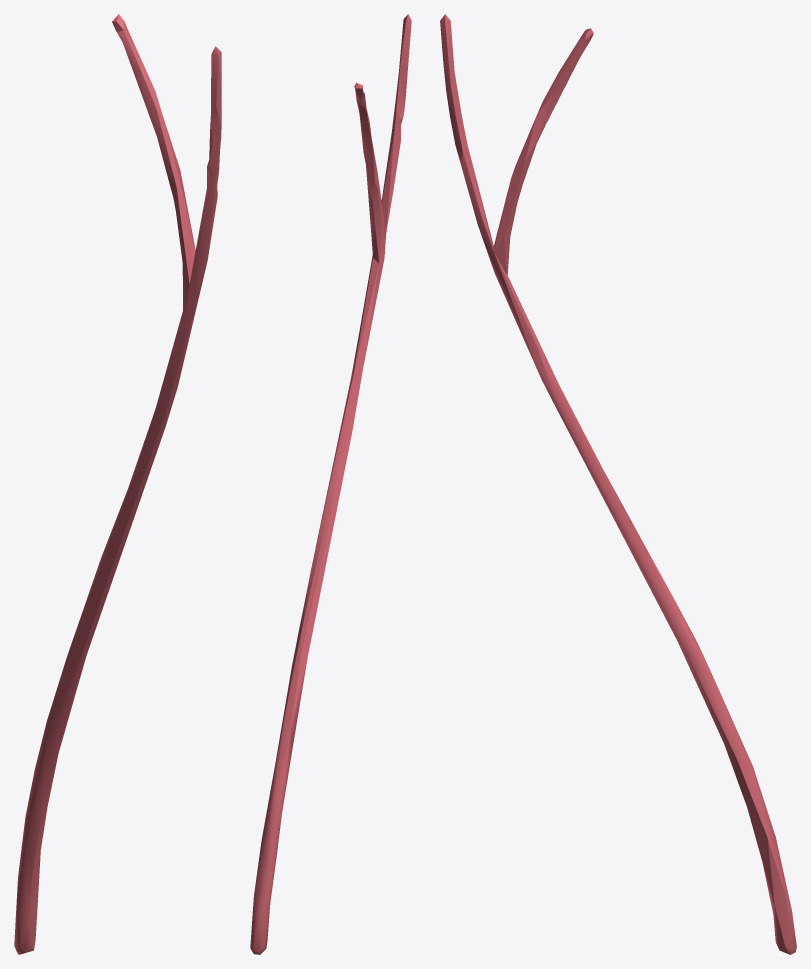
File: fma50175_fj4977.glb
The picture shows the model from 3 angles, left to right: view 1: azimuth 30°, elevation 25°; view 2: azimuth 150°, elevation 25°; view 3: azimuth 270°, elevation 25°; orthographic projection. The views are drawn at different scales.
Visible parts, largest first — view 1: FMA50175_FJ4977; view 2: FMA50175_FJ4977; view 3: FMA50175_FJ4977.
Part boxes in pixels (left/top/right/bottom): FMA50175_FJ4977: left=14, top=14, right=221, bottom=954; FMA50175_FJ4977: left=250, top=14, right=411, bottom=954; FMA50175_FJ4977: left=440, top=14, right=796, bottom=954.
Bounding box in the file's own units: 0.000722 × 0.0192 × 0.00662.
